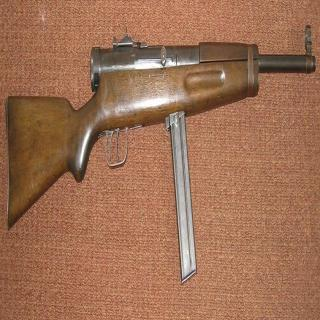gun: (2, 0, 317, 283)
